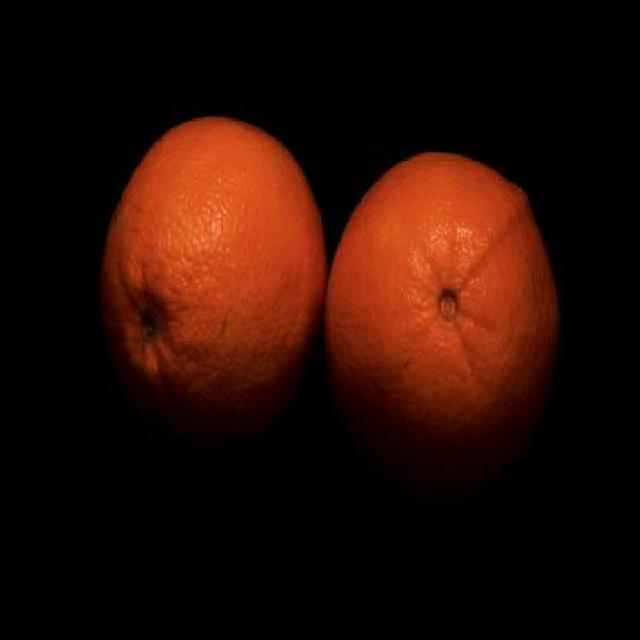Orange: (100, 112, 329, 438), (322, 146, 556, 437)
